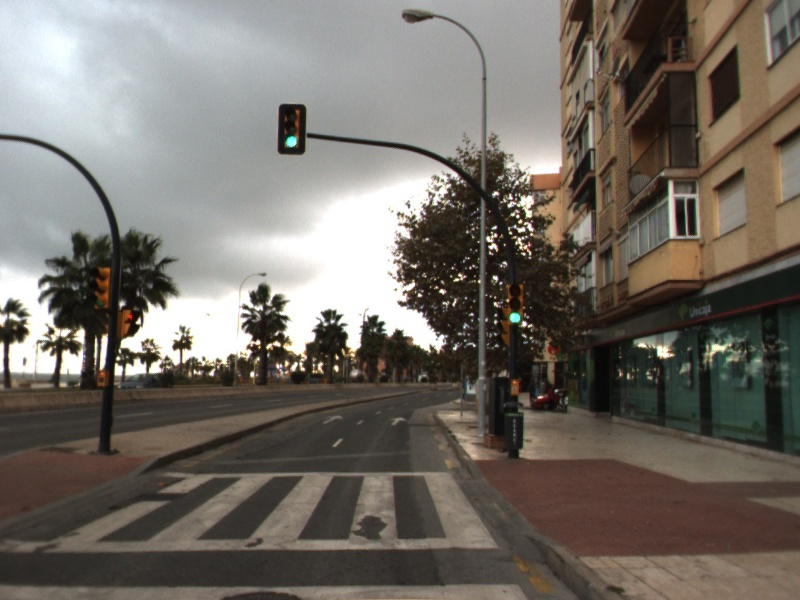STRAIGHT: (321, 414, 345, 425), (389, 415, 408, 427)
